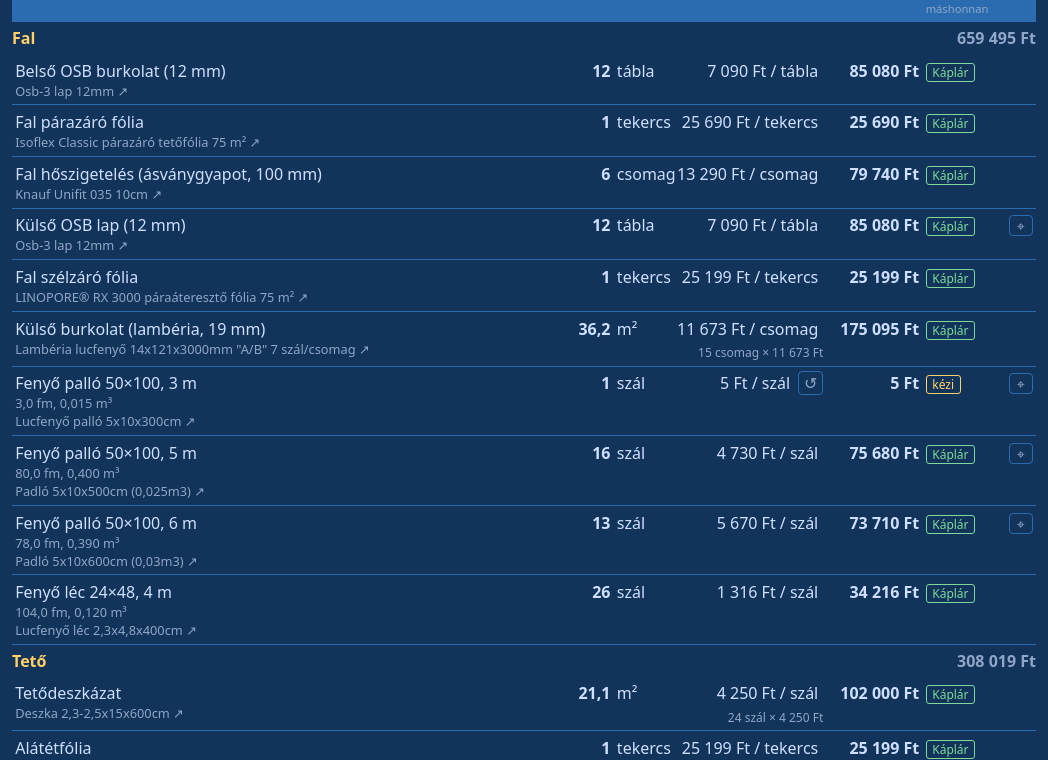
Scenario: reset button removes the override
(page scrolled)
What coordinates should you click on to do the following:
click the button named "Káplár-ár visszaállítása"
I would click on:
 (811, 383)
Its box is x1=798 y1=371 x2=823 y2=395.
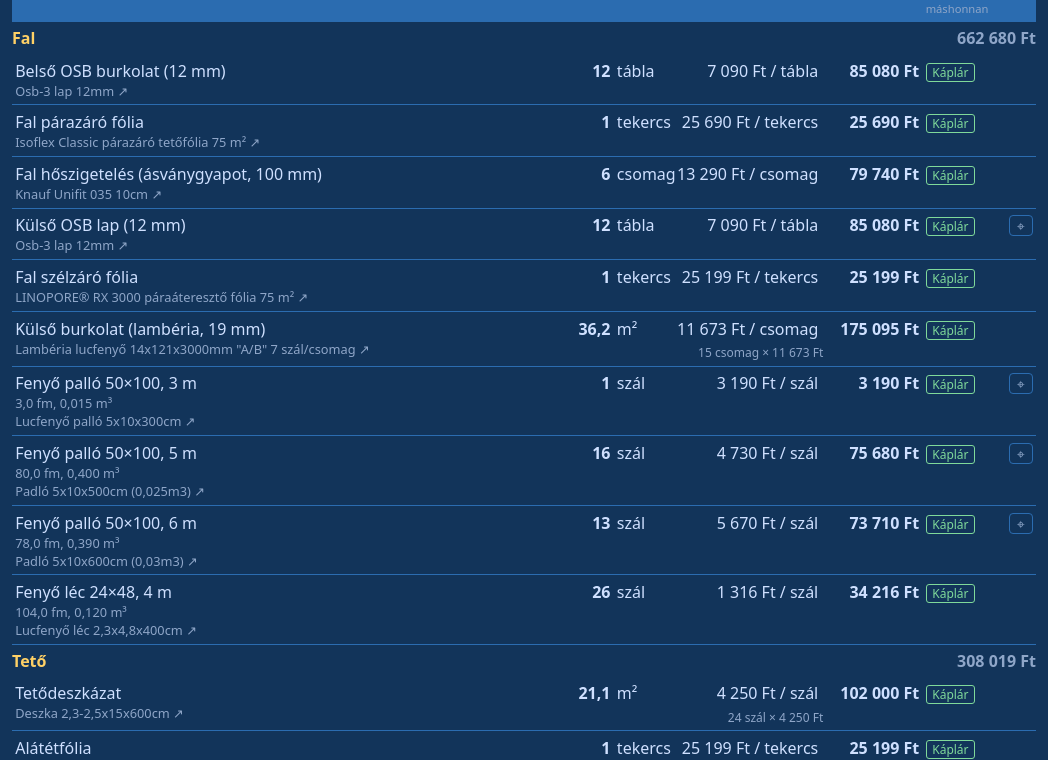
Result: the text "Káplár" in the row of "Fenyő palló 50×100, 3 m" is shown at x1=932 y1=376 x2=968 y2=393
